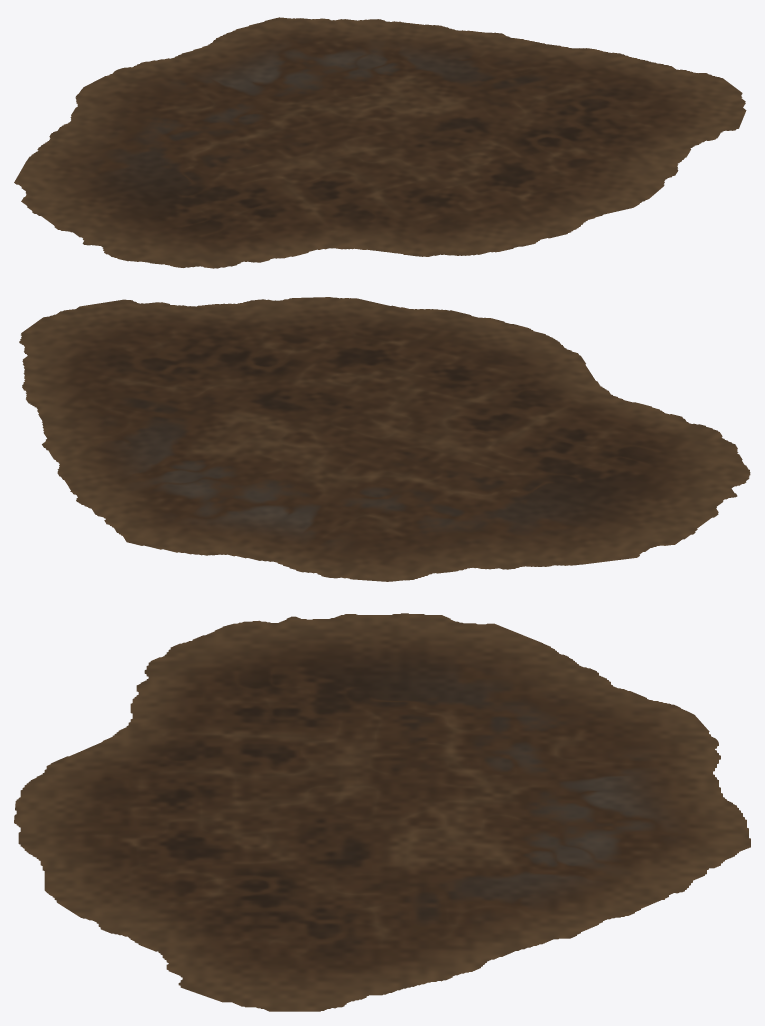
Rendered from fm_mud_patch_wet.glb.
3 views of the same model, one above another, from view 1: azimuth 30°, elevation 25°; view 2: azimuth 150°, elevation 25°; view 3: azimuth 270°, elevation 25° (orthographic). The views are drawn at different scales.
Parts seen in each view (by area): view 1: fm_mud_patch_wet; view 2: fm_mud_patch_wet; view 3: fm_mud_patch_wet.
Part boxes in pixels (<box>): fm_mud_patch_wet: <box>14,17,746,268</box>; fm_mud_patch_wet: <box>19,297,750,581</box>; fm_mud_patch_wet: <box>14,613,750,1011</box>.
Size of the model in its own units: 1.19 by 0.0121 by 0.9245.
1 material, 1 textured.
